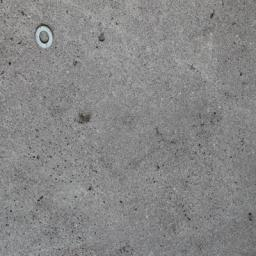FOD: (34, 24, 58, 51)
